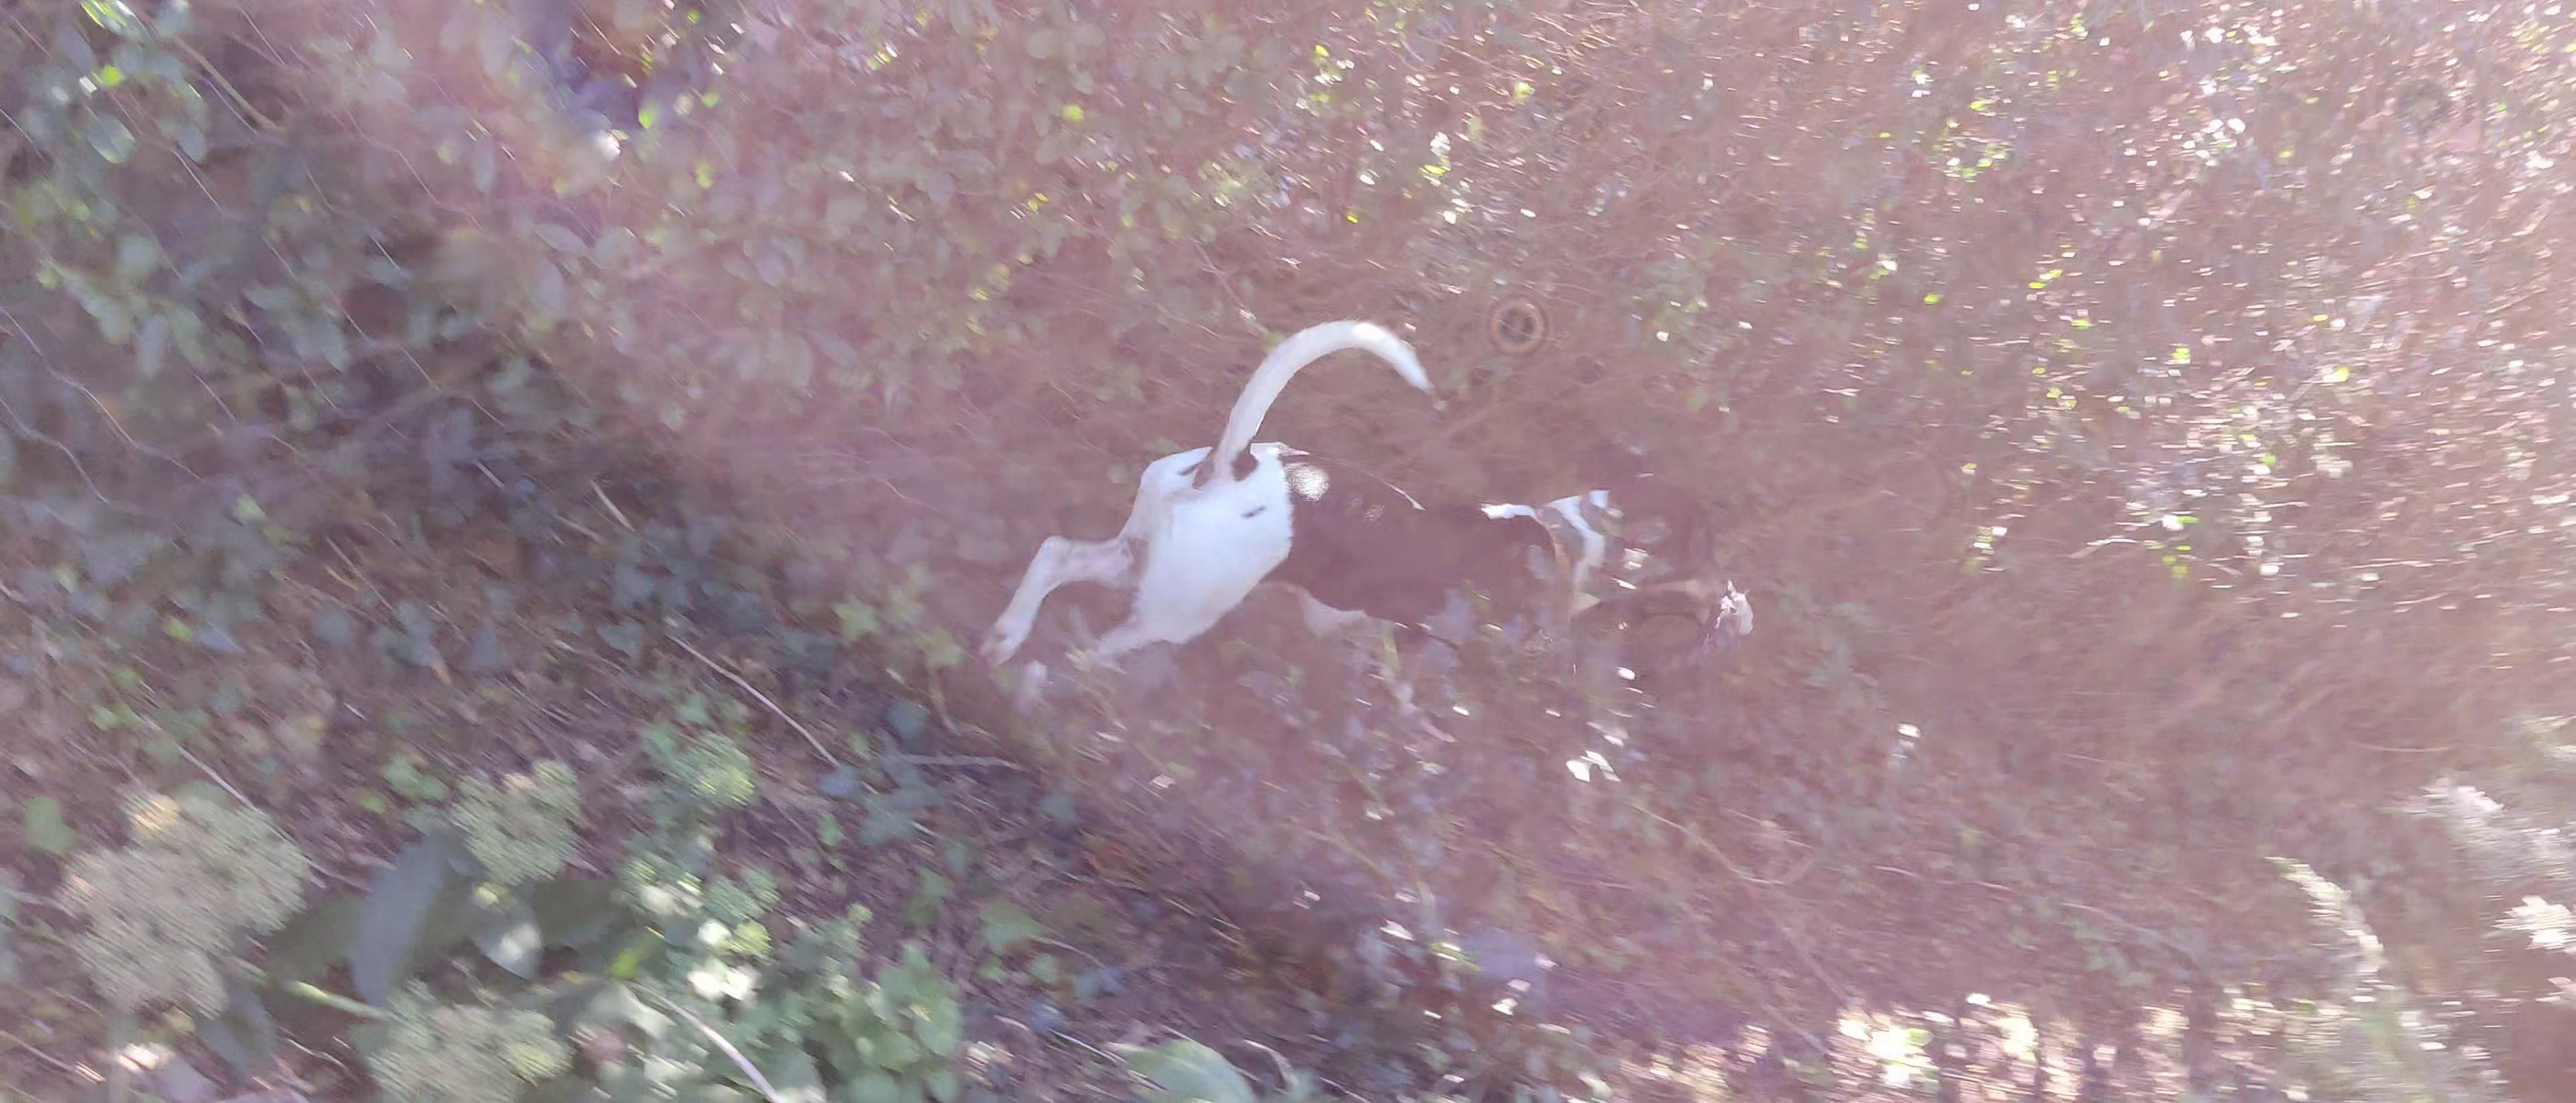Dog: (956, 314, 1728, 681)
